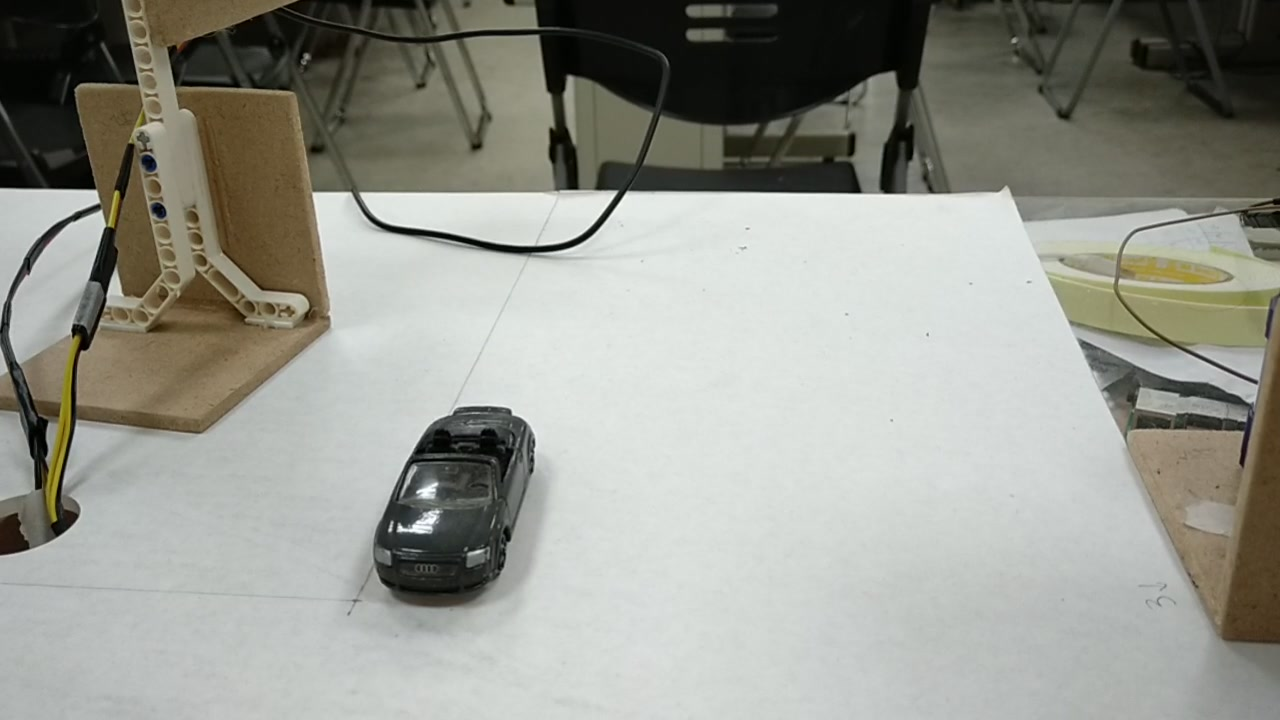car: (363, 417, 544, 595)
